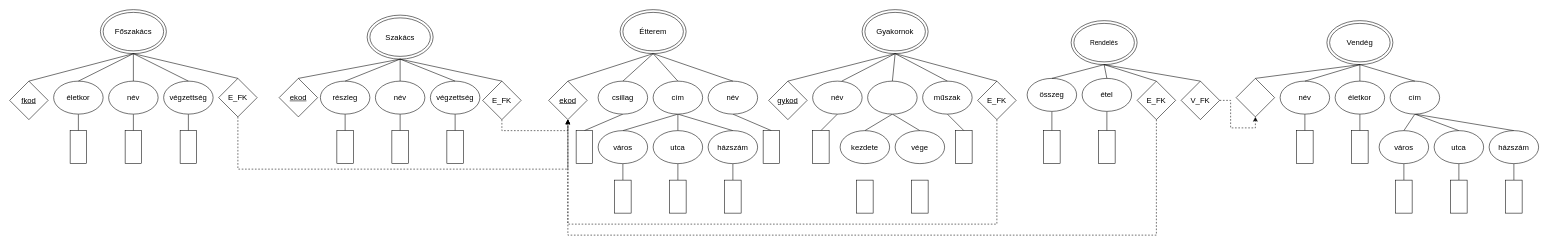
This 1548x249 diagram has some shape labels left out. Here are the shapes that lost their labels. From the top down, the centre of each, then its label:
point 892,97: gyakorlat
point 1255,97: vkod
